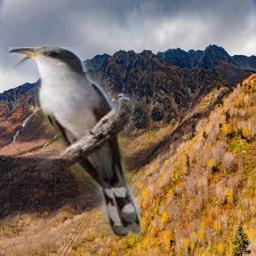Cuckoo: (9, 47, 141, 237)
